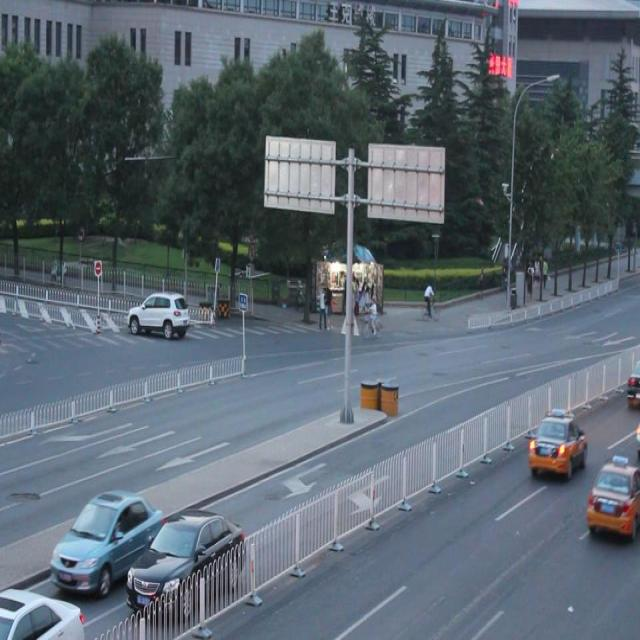car: (124, 505, 246, 609), (51, 484, 164, 594), (1, 582, 83, 640), (584, 458, 640, 542), (528, 406, 586, 478), (126, 288, 188, 339), (624, 351, 640, 418)
